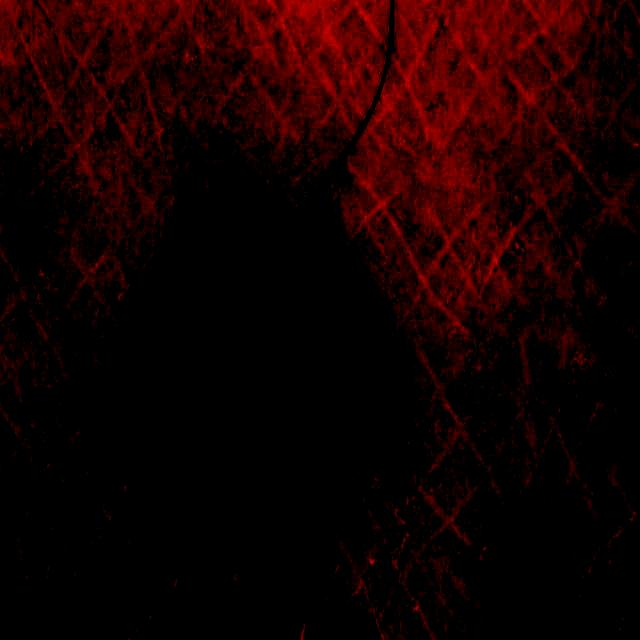NV: (0, 1, 389, 365), (99, 166, 418, 527), (85, 0, 393, 370)
